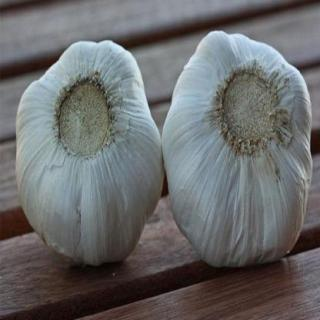Bawang Putih: (161, 31, 314, 268), (16, 40, 166, 270)
